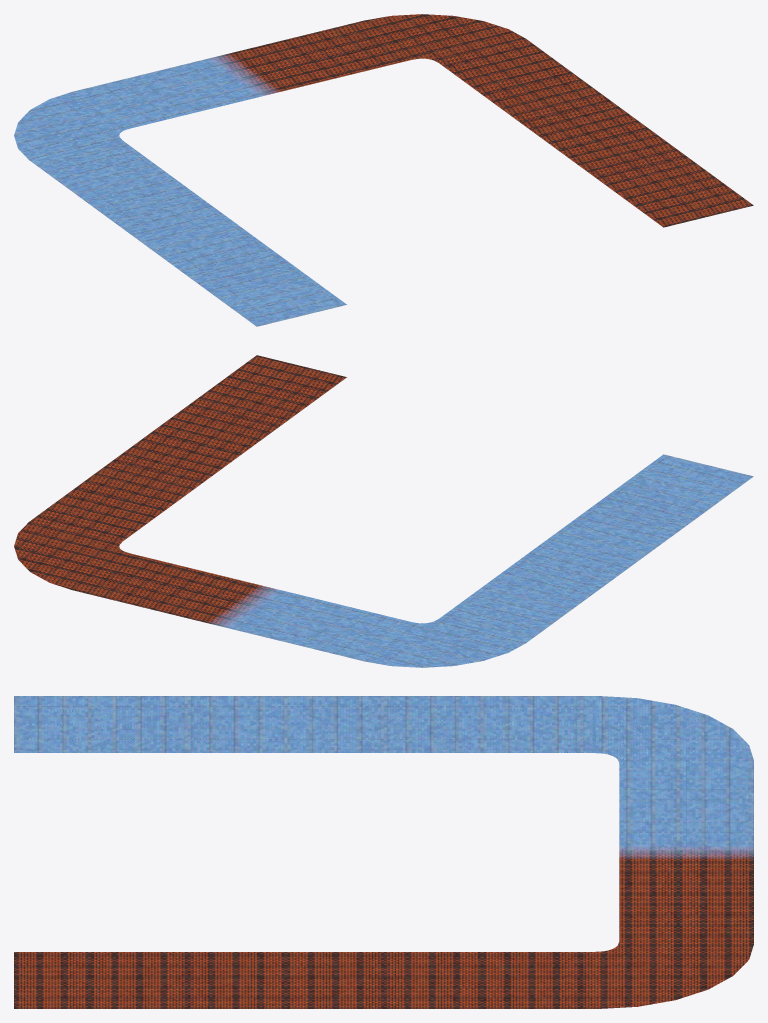
File: lane_road.glb
3 renders of one model, top to bottom at view 1: azimuth 30°, elevation 25°; view 2: azimuth 150°, elevation 25°; view 3: azimuth 270°, elevation 25°, orthographic. The views are drawn at different scales.
Visible parts, largest first — view 1: road; view 2: road; view 3: road.
Part boxes in pixels (x1,y1,x2,y2): road: (14, 14, 753, 326); road: (14, 355, 753, 667); road: (14, 696, 753, 1008).
Size of the model in its own units: 132 by 0 by 132.
1 material, 1 textured.
